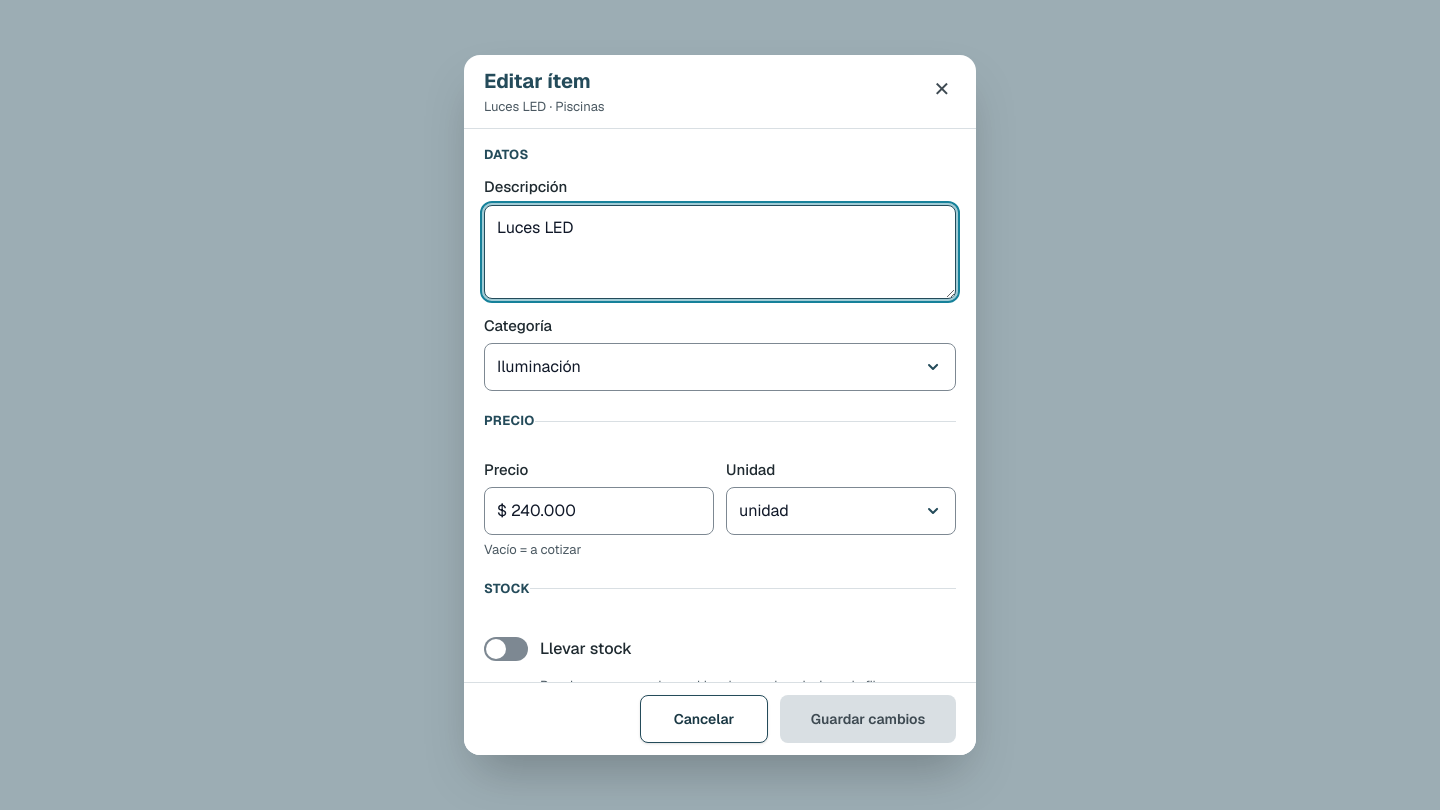
Test: EditarItemModal › un precio negativo se rechaza en el cliente y no llega a persistirse
Replace the text in the field labelled "Precio" with "-100". click: (599, 511)
box: x1=484 y1=487 x2=714 y2=535
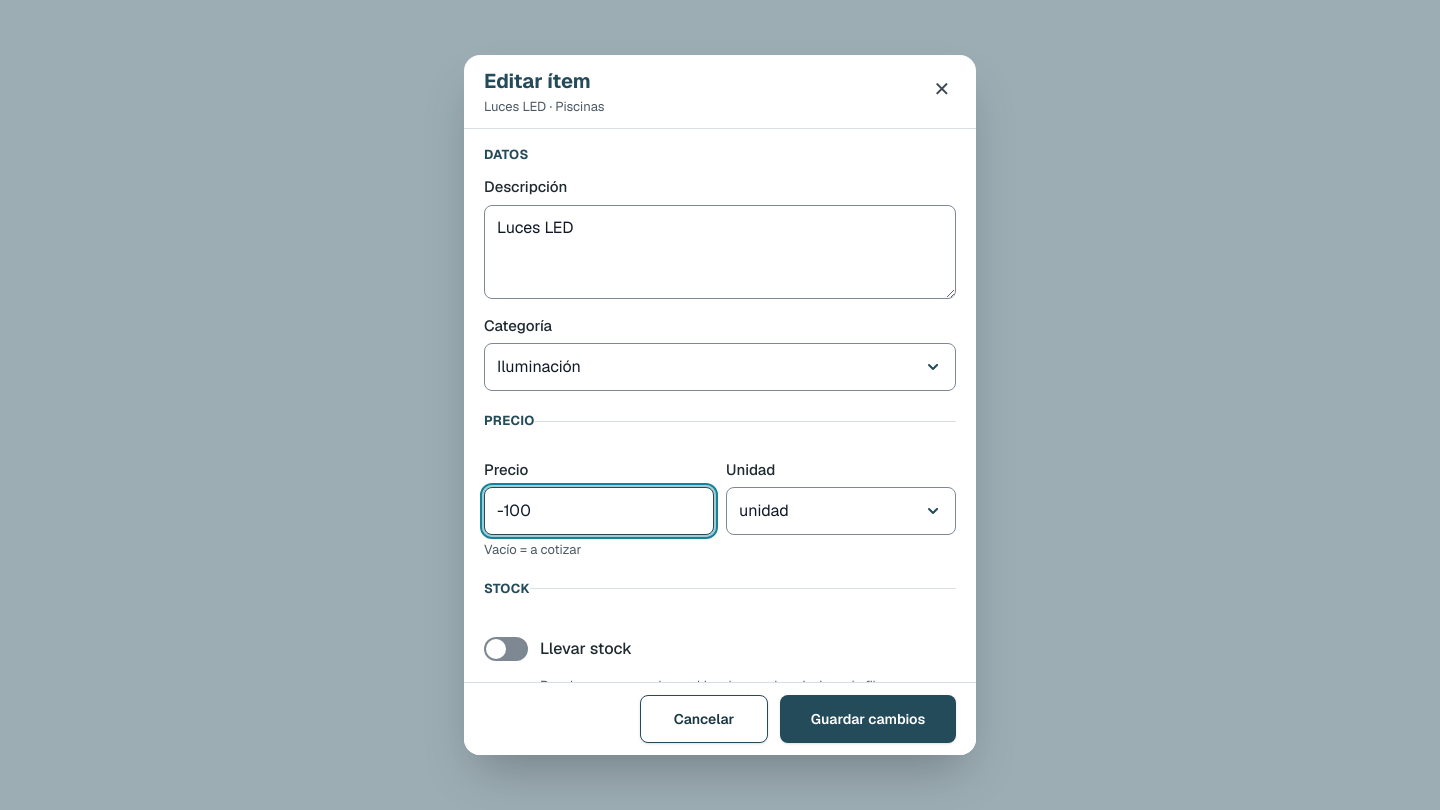
Click the button "Guardar cambios". click: (868, 719)
box: x1=780 y1=695 x2=956 y2=743
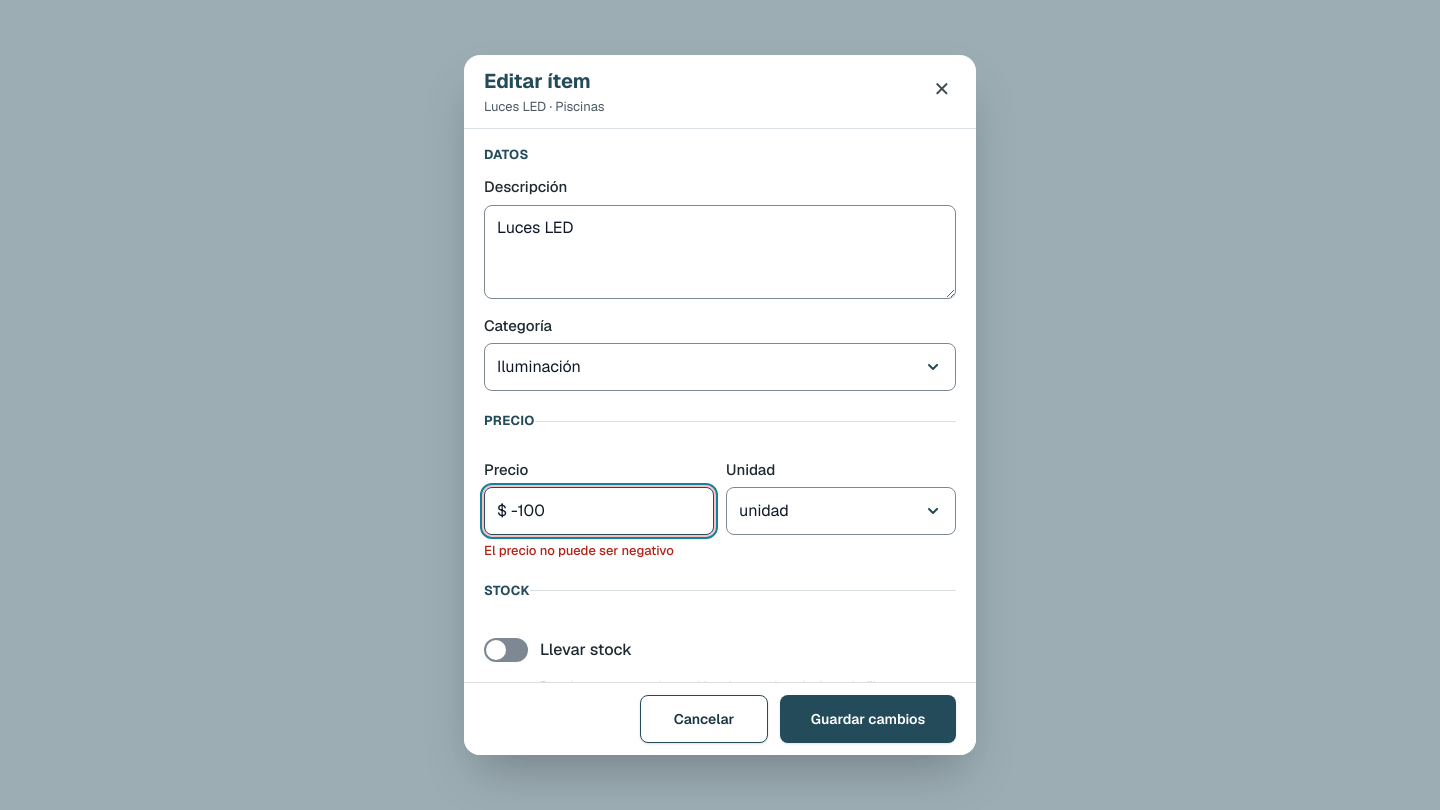
Expected: the text "El precio no puede ser negativo" is shown, x1=484 y1=542 x2=674 y2=559
